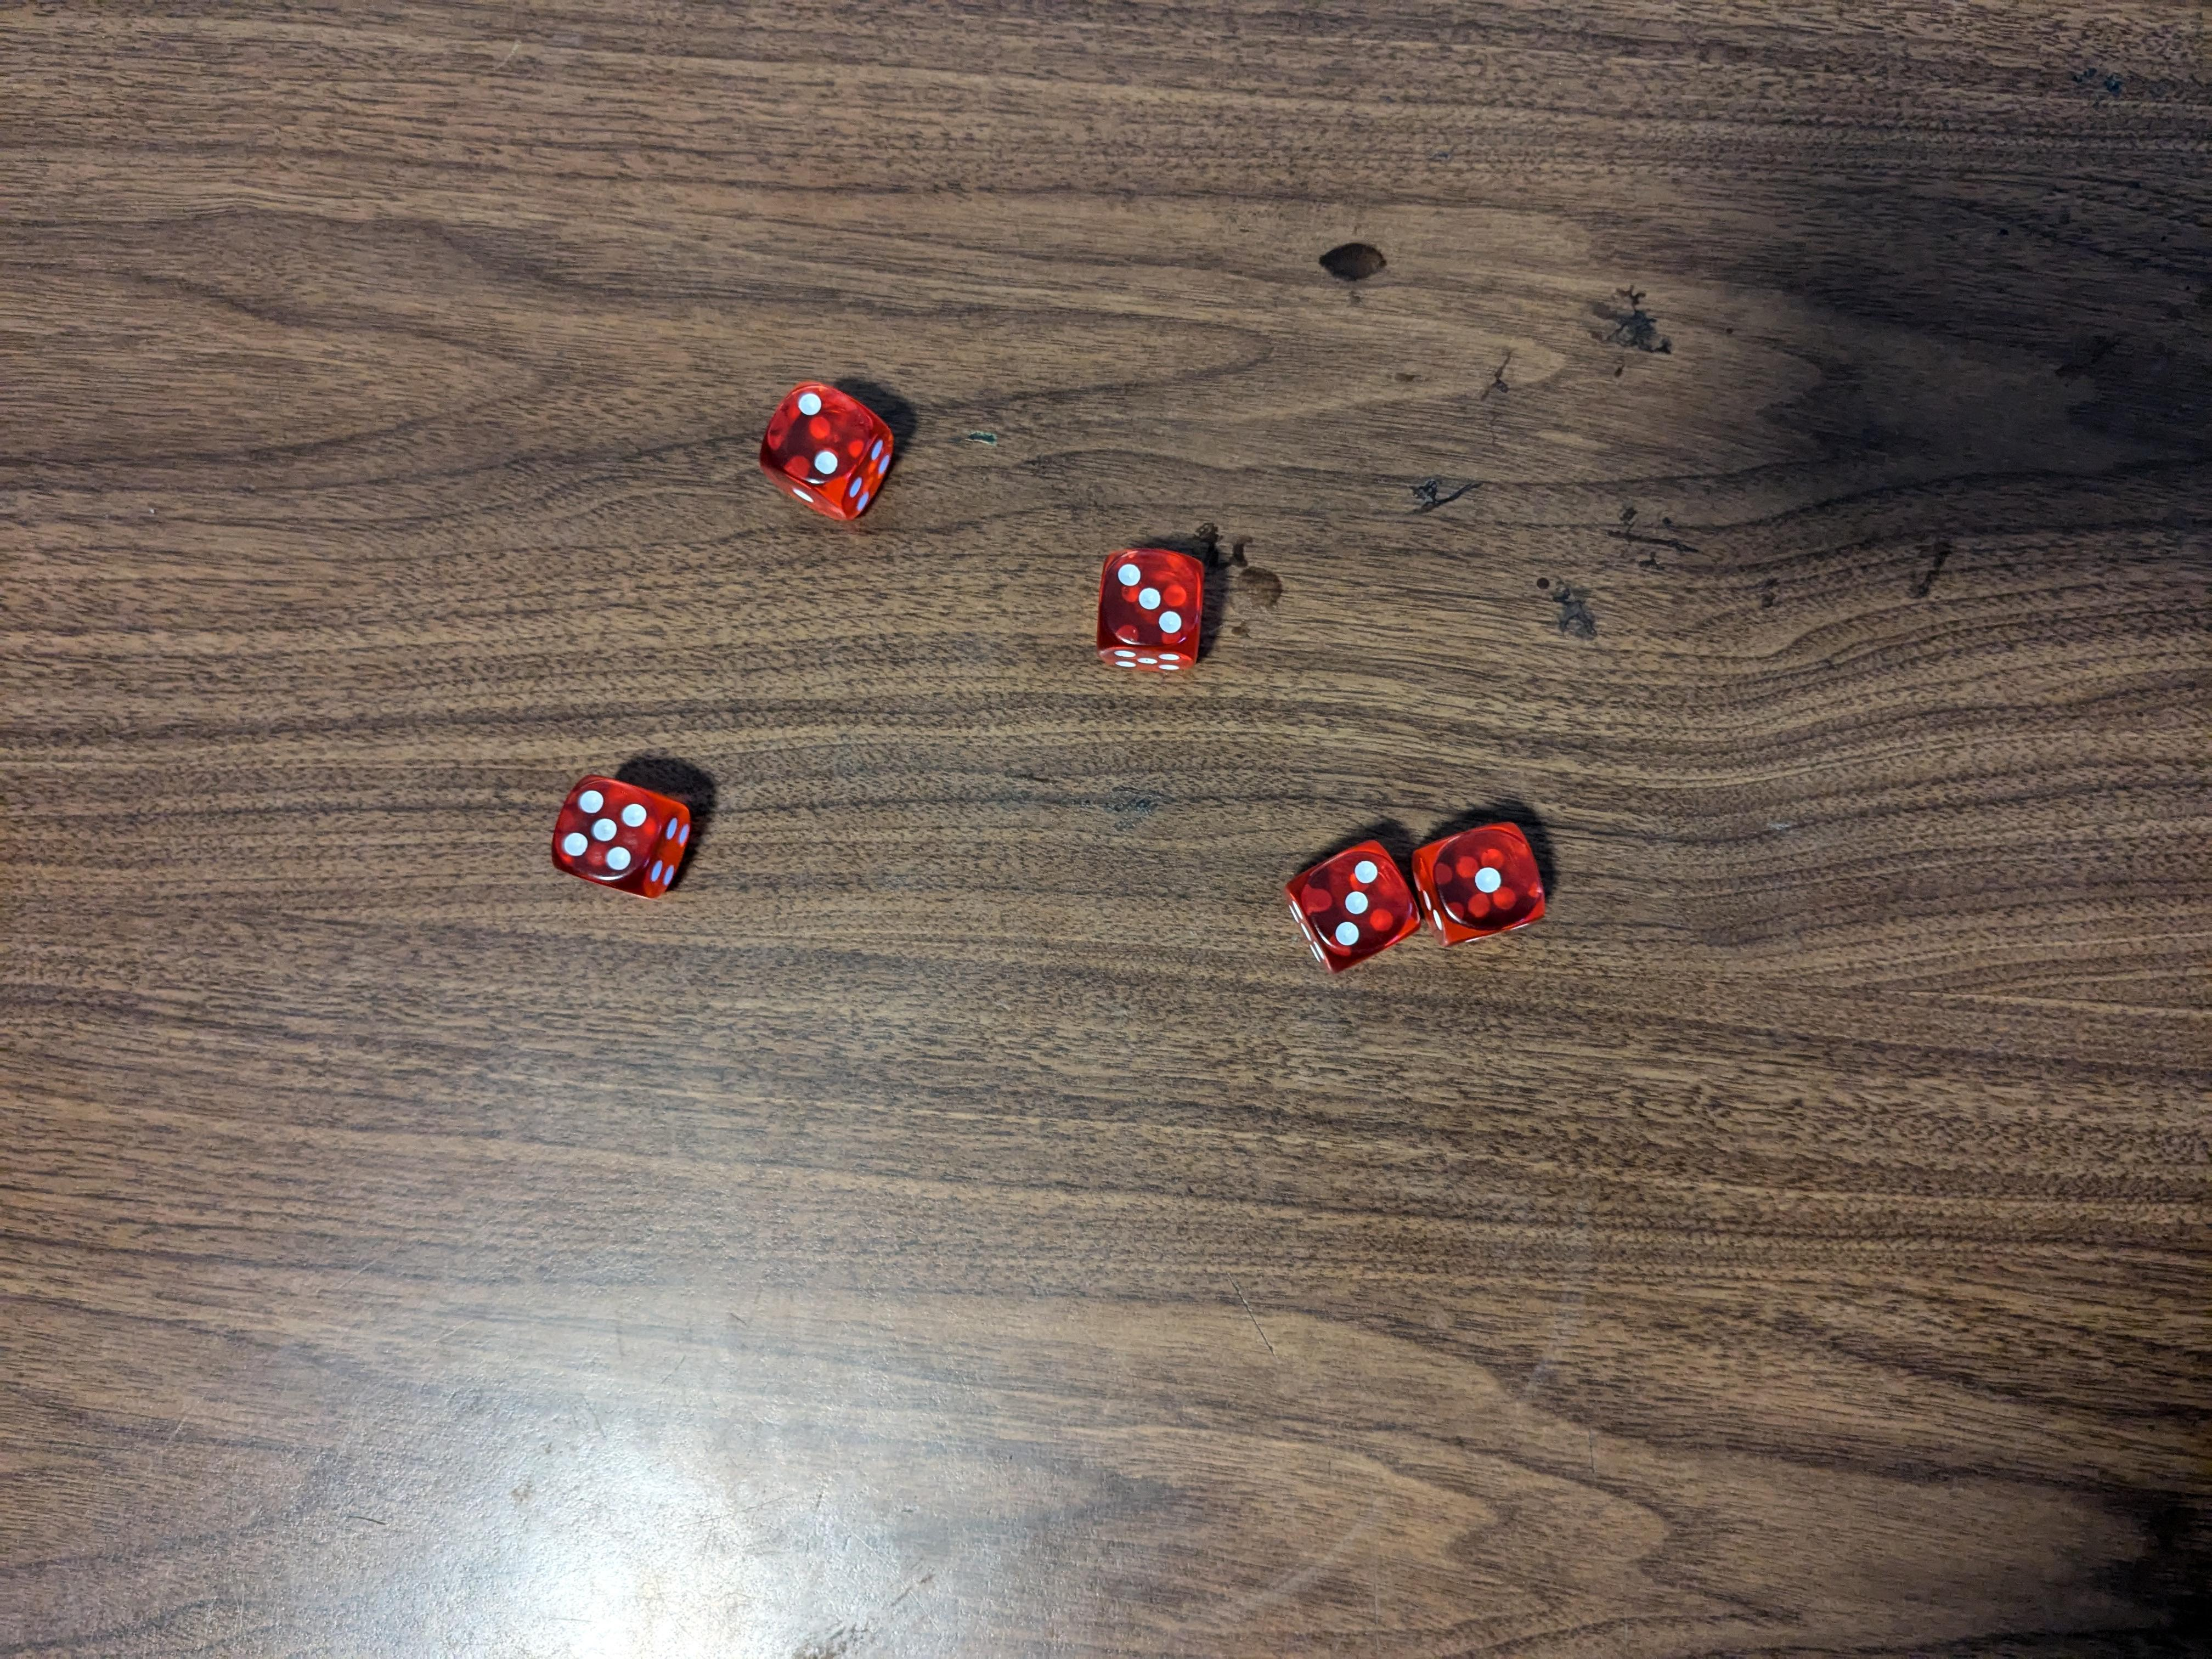five: (549, 765, 693, 904)
one: (1411, 816, 1555, 943)
three: (1282, 836, 1426, 969), (1097, 540, 1211, 676)
two: (752, 373, 899, 523)
